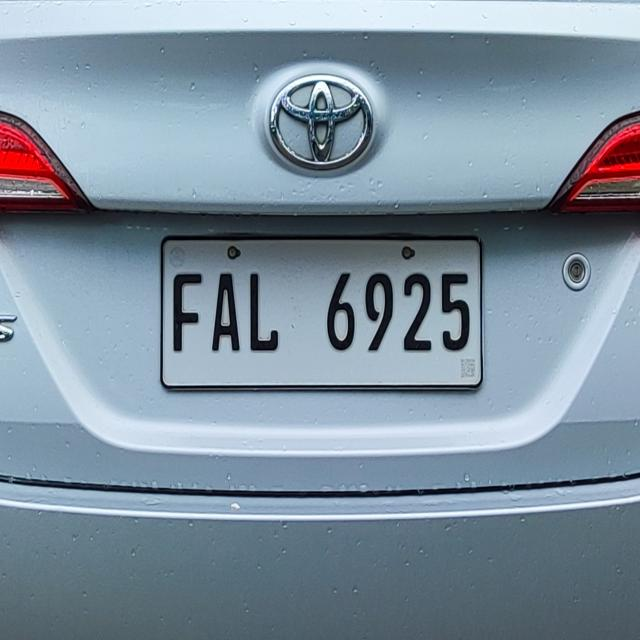plate: (156, 230, 488, 396)
